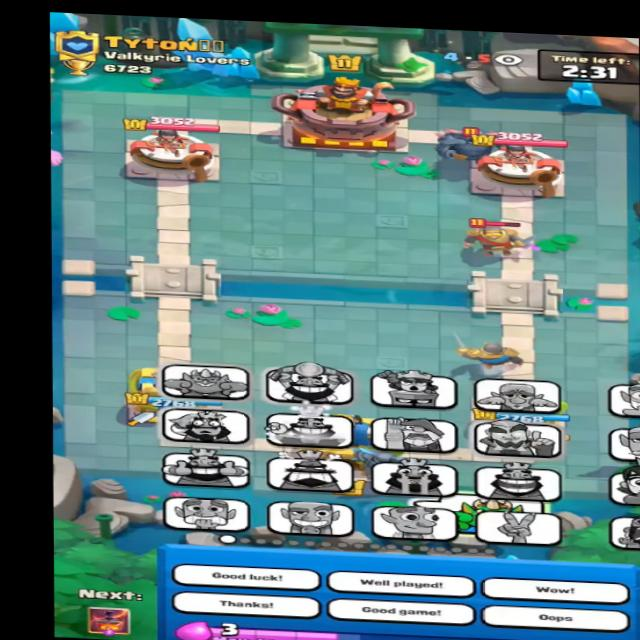knight: (454, 211, 536, 254)
pekka: (430, 125, 519, 167)
